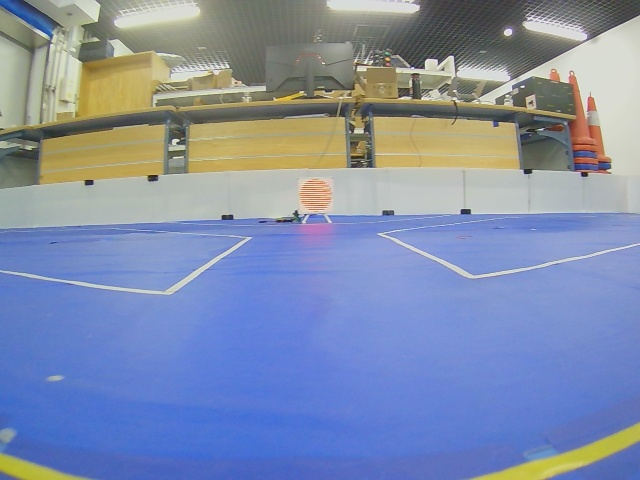red: (299, 178, 333, 213)
